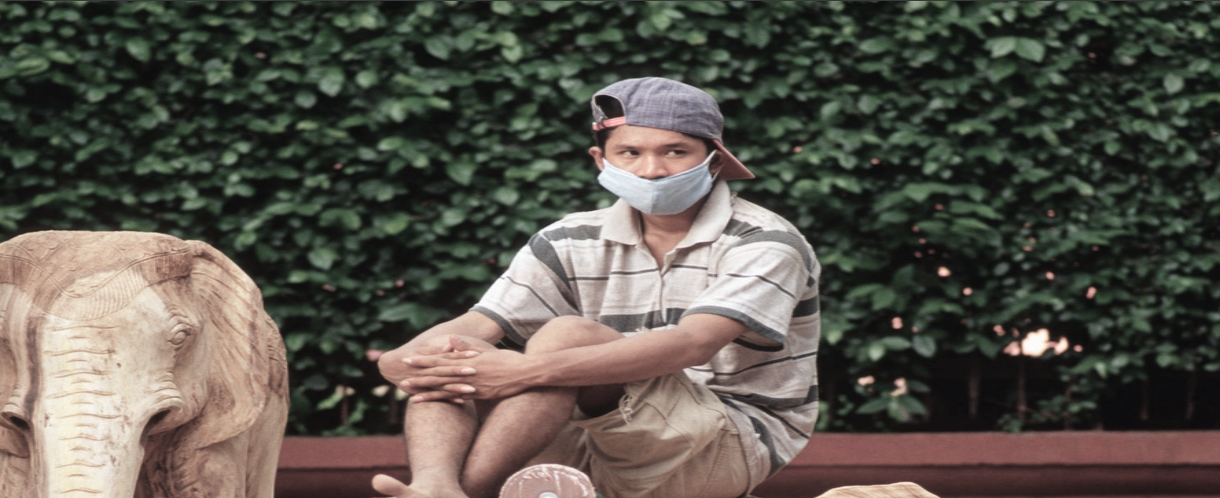mask_weared_incorrect: (582, 75, 746, 227)
